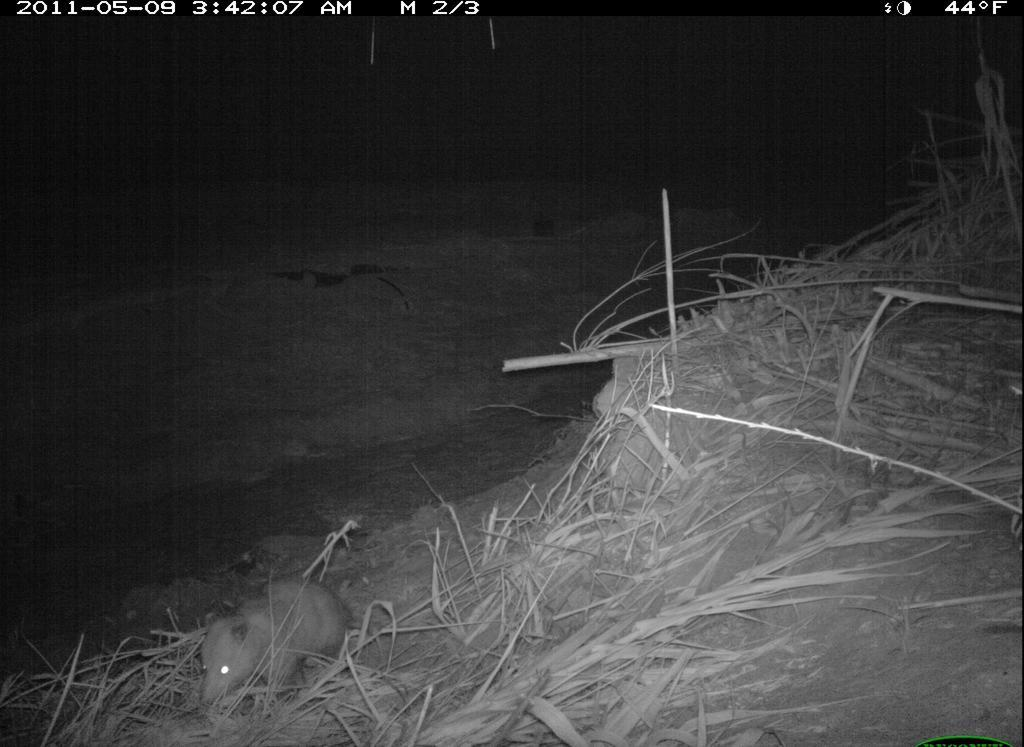opossum: (199, 568, 356, 715)
